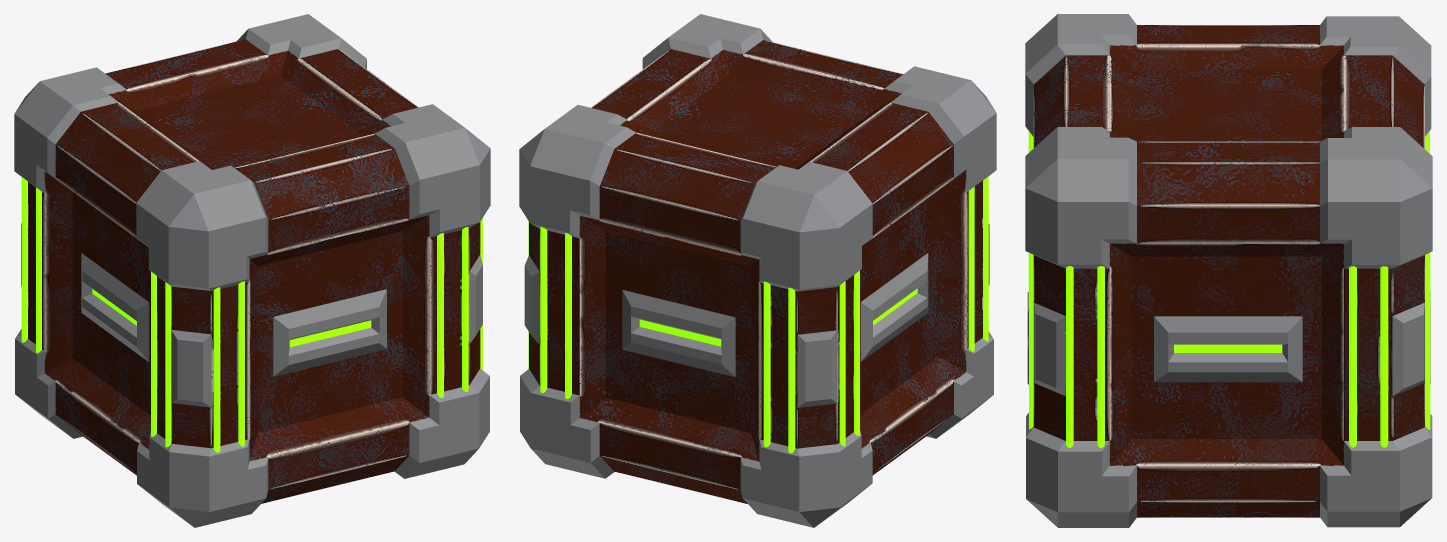
File: normal.fbx
3 renders of one model, left to right at view 1: azimuth 30°, elevation 25°; view 2: azimuth 150°, elevation 25°; view 3: azimuth 270°, elevation 25°, orthographic. The views are drawn at different scales.
Visible parts, largest first — view 1: cajalowprueba2; view 2: cajalowprueba2; view 3: cajalowprueba2.
Part boxes in pixels (<box>): cajalowprueba2: <box>14,14,490,527</box>; cajalowprueba2: <box>519,14,996,527</box>; cajalowprueba2: <box>1025,14,1432,527</box>.
Bounding box in the file's own units: 209 × 208 × 208.
